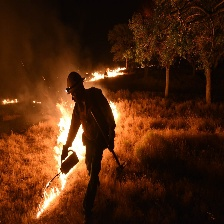fire: (29, 96, 78, 220), (87, 57, 137, 84), (108, 96, 123, 123), (4, 94, 18, 107)
smoke: (1, 3, 87, 90)
